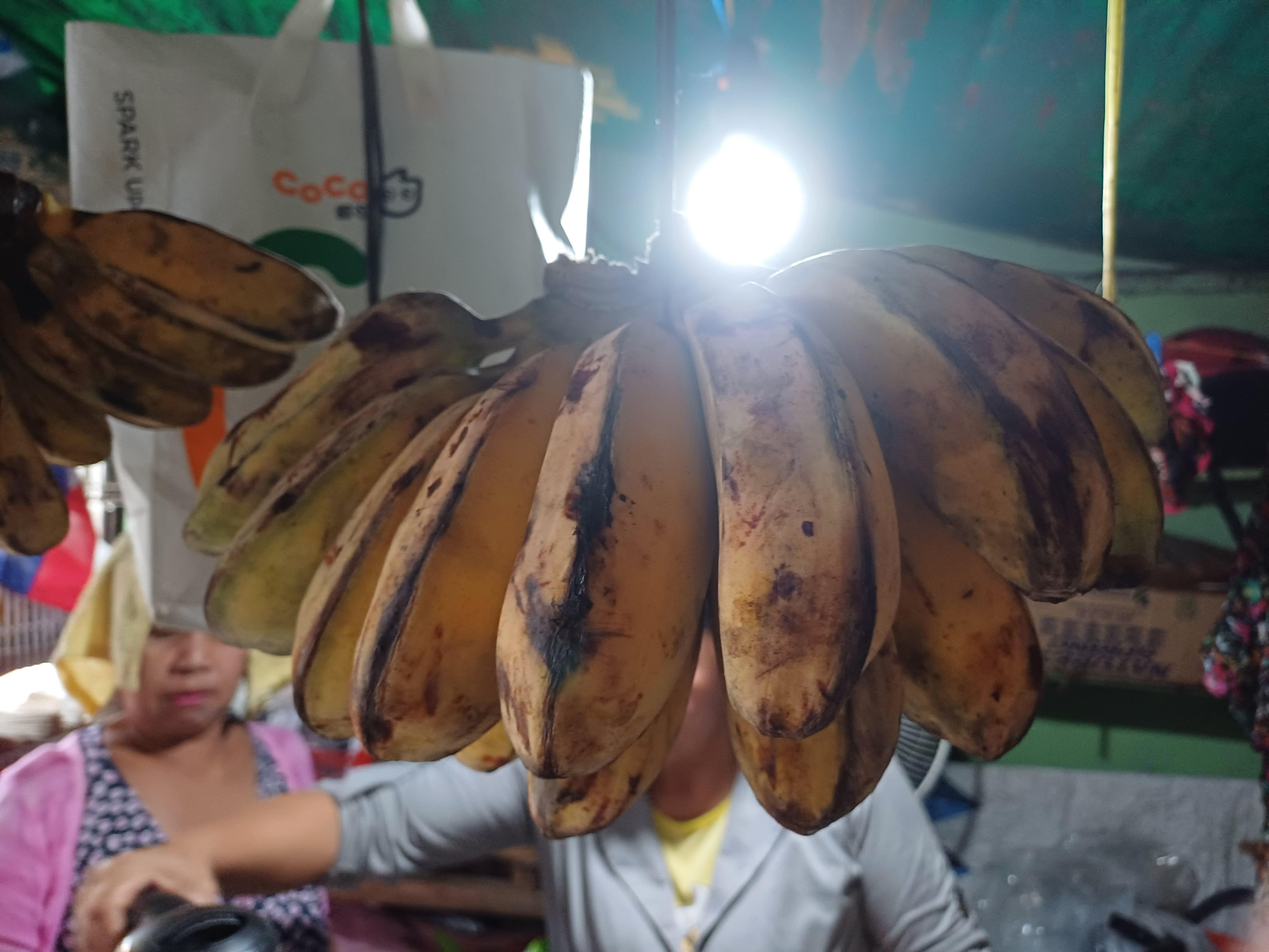ripe: (185, 247, 1165, 838), (0, 209, 341, 555)
